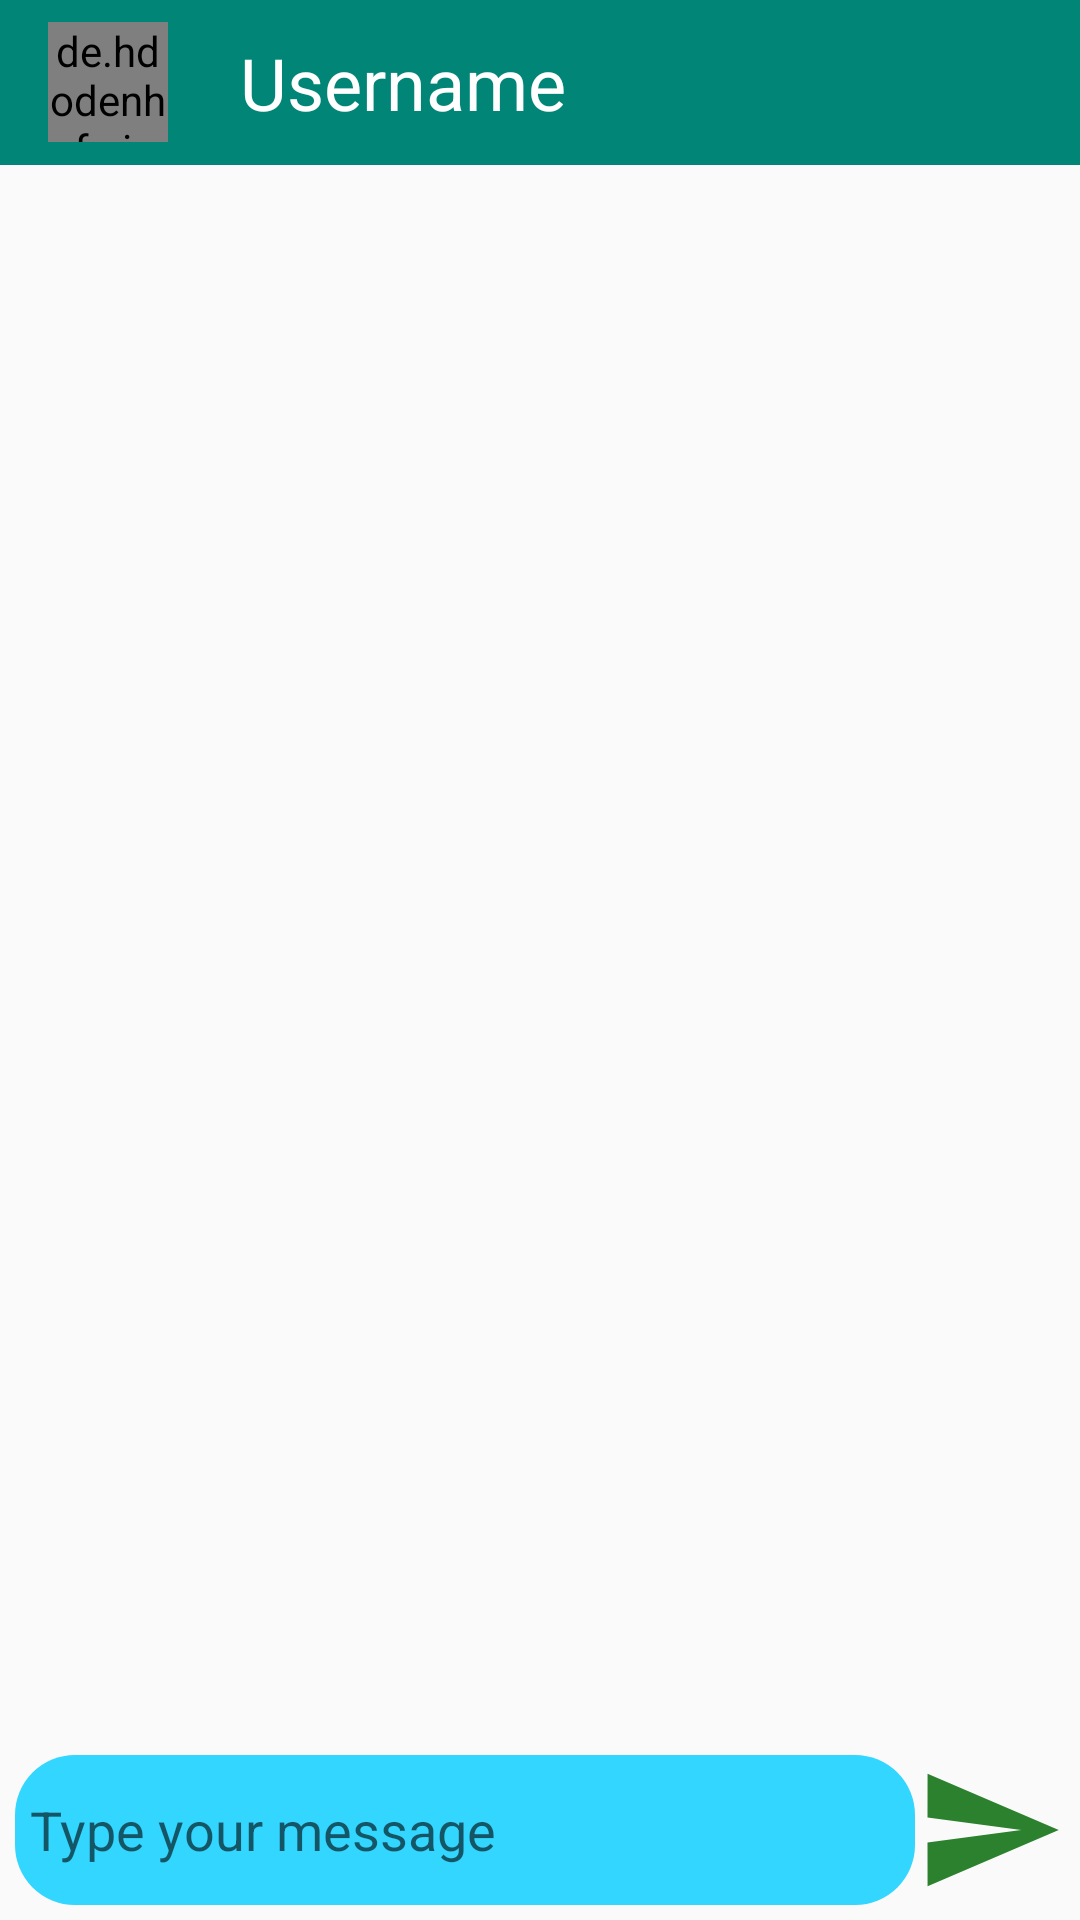

Icon click points for this 1080 × 1920 phone screenshot, format point (x, y):
send: point (992, 1830)
